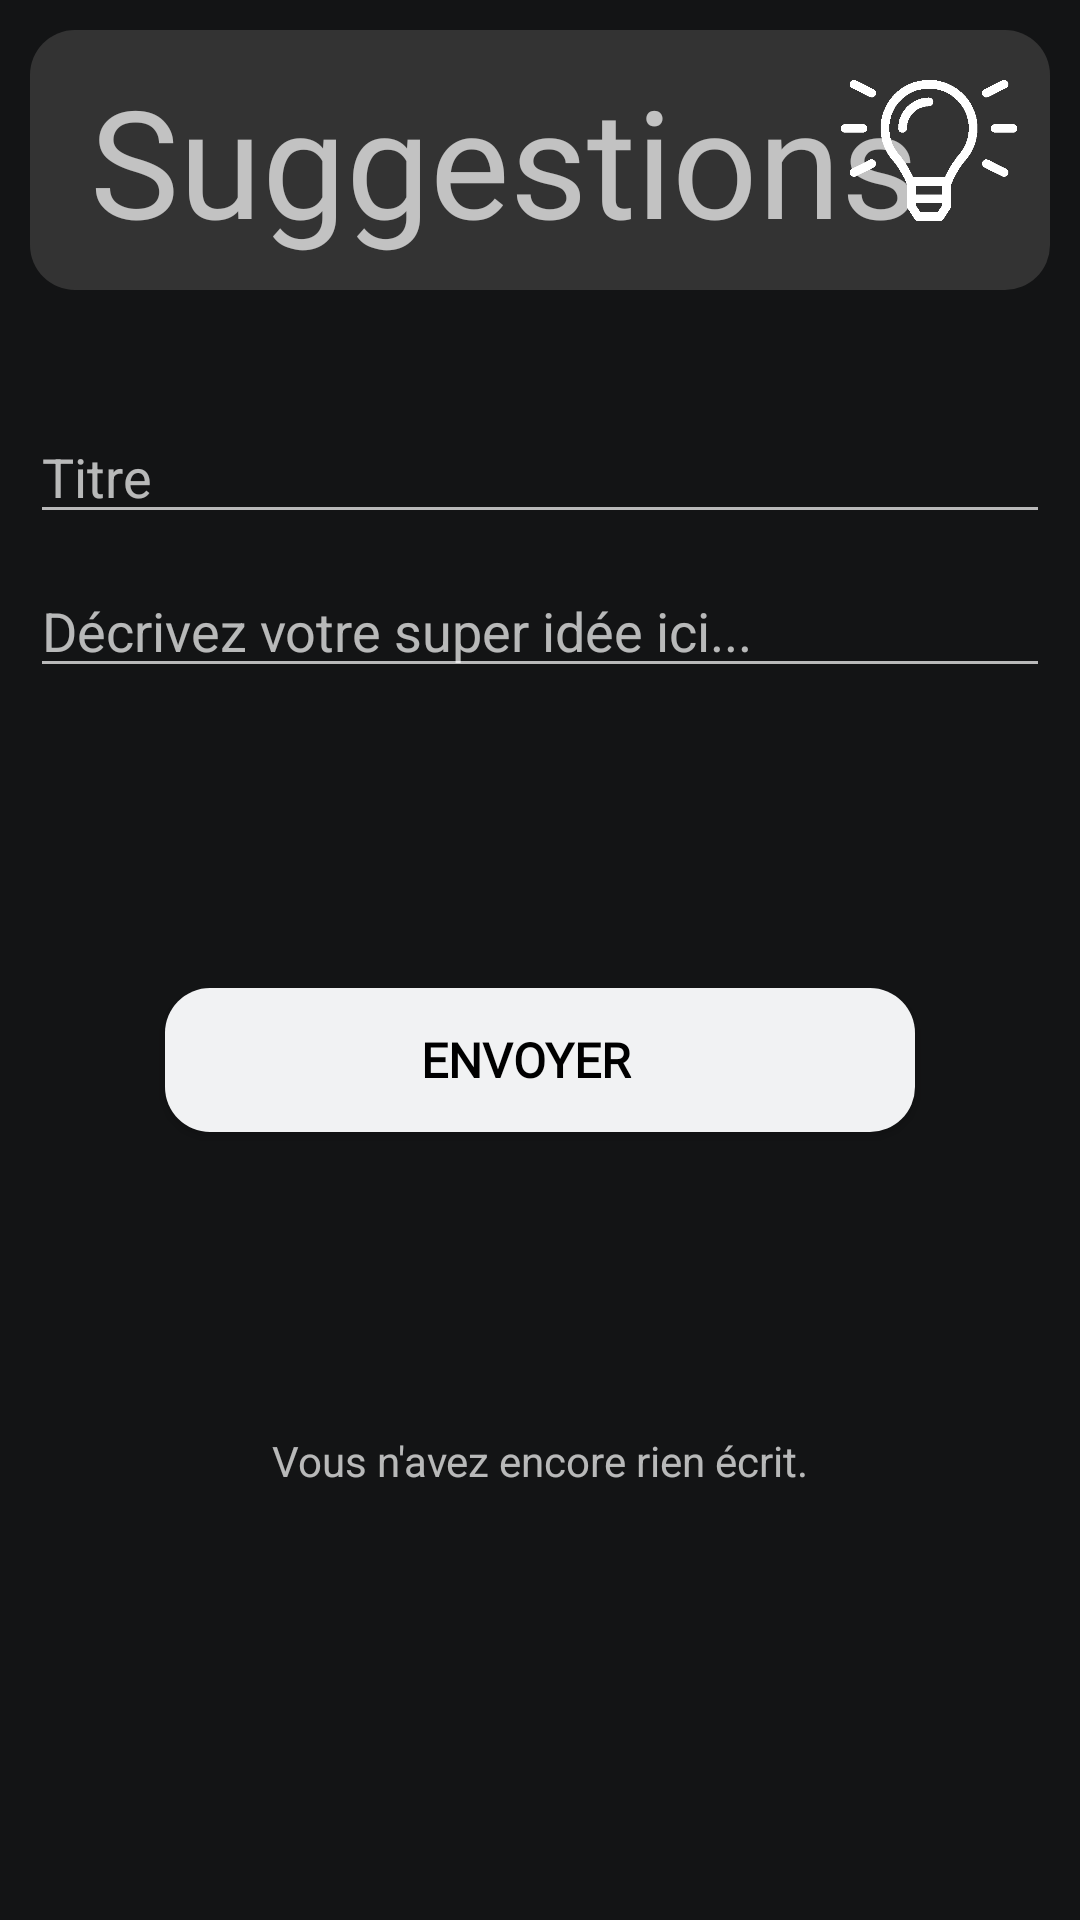

Named icons in this screenshot (1080px×1920px) and their bounding boxes, (x1=x1, y1=y1, x2=x2, y2=y2):
une idee: (x1=841, y1=80, x2=1017, y2=221)
